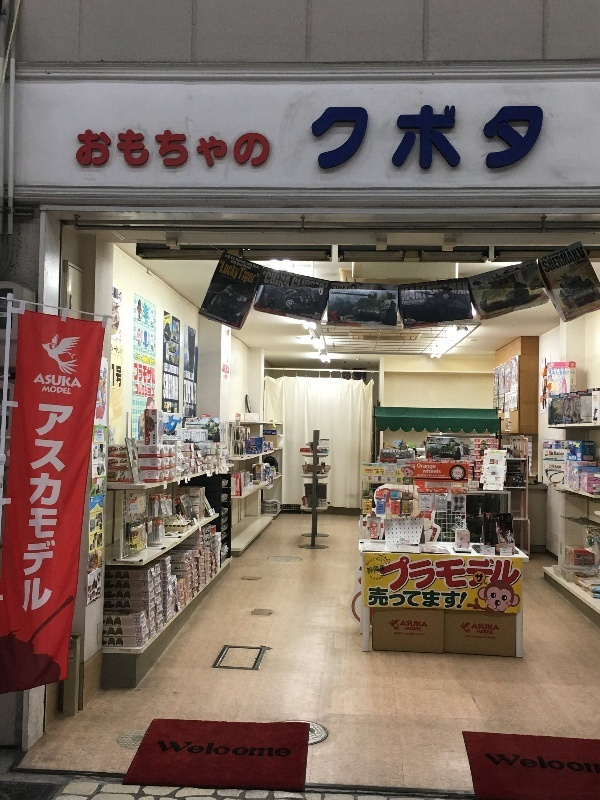text: (49, 401, 64, 615), (38, 401, 48, 615), (65, 401, 75, 615), (321, 103, 336, 173), (337, 103, 352, 173), (353, 103, 368, 173), (369, 103, 384, 173), (385, 103, 400, 173), (401, 103, 416, 173), (417, 103, 432, 173), (433, 103, 448, 173), (449, 103, 464, 173), (465, 103, 480, 173), (481, 103, 496, 173), (497, 103, 512, 173), (513, 103, 528, 173), (529, 103, 544, 173), (309, 103, 320, 173), (81, 128, 96, 173), (97, 128, 112, 173), (113, 128, 128, 173), (129, 128, 144, 173), (145, 128, 160, 173), (161, 128, 176, 173), (177, 128, 192, 173), (193, 128, 208, 173), (209, 128, 224, 173), (225, 128, 240, 173), (241, 128, 256, 173), (257, 128, 271, 173), (385, 554, 400, 593), (401, 554, 416, 593), (417, 554, 432, 593), (433, 554, 448, 593), (449, 554, 464, 593), (465, 554, 480, 593), (481, 554, 496, 593), (497, 554, 512, 593), (545, 244, 560, 275), (561, 244, 576, 275), (369, 584, 384, 612), (385, 584, 400, 612), (401, 584, 416, 612), (417, 584, 432, 612), (433, 584, 448, 612), (449, 584, 464, 612), (163, 372, 176, 403), (225, 259, 240, 281), (161, 739, 176, 761), (177, 739, 192, 761), (193, 739, 208, 761), (209, 739, 224, 761), (225, 739, 240, 761), (241, 739, 256, 761), (257, 739, 272, 761), (273, 739, 288, 761), (497, 752, 512, 774), (513, 752, 528, 774), (529, 752, 544, 774), (545, 752, 560, 774), (561, 752, 576, 774), (513, 554, 521, 593), (577, 244, 587, 275), (482, 752, 496, 774), (242, 266, 256, 287), (273, 270, 288, 289), (49, 371, 64, 389), (65, 371, 80, 389), (114, 286, 128, 305), (145, 362, 156, 385), (449, 281, 464, 297), (545, 246, 560, 262), (378, 554, 384, 593), (134, 362, 144, 385), (401, 286, 416, 301), (113, 364, 122, 389), (577, 752, 586, 774), (184, 380, 192, 404), (145, 383, 155, 400), (305, 274, 320, 285), (369, 564, 384, 575), (49, 385, 64, 396), (163, 362, 176, 374), (135, 383, 144, 400), (264, 270, 272, 289), (273, 267, 288, 277), (293, 277, 304, 290), (193, 431, 206, 442), (465, 584, 470, 612), (369, 556, 383, 566), (370, 571, 384, 581), (145, 352, 155, 366), (545, 103, 547, 173), (417, 286, 426, 301), (481, 622, 496, 631), (77, 128, 80, 173), (561, 246, 569, 262), (113, 343, 122, 357), (41, 371, 48, 389), (417, 463, 432, 471), (403, 619, 416, 628), (321, 283, 328, 299), (136, 352, 144, 366), (548, 367, 560, 376), (417, 619, 429, 628), (337, 284, 352, 291), (584, 762, 592, 775), (402, 298, 416, 305), (244, 263, 256, 271), (184, 370, 192, 382), (193, 380, 197, 404), (541, 244, 544, 275), (593, 762, 600, 775), (465, 634, 480, 640), (481, 634, 496, 640), (296, 274, 304, 285), (321, 274, 329, 285), (226, 254, 240, 260), (561, 367, 570, 376), (184, 432, 192, 442), (481, 629, 494, 635), (170, 364, 176, 377), (65, 385, 72, 396), (265, 267, 272, 277), (417, 298, 427, 305), (427, 285, 432, 299), (422, 468, 432, 475), (221, 259, 224, 281), (549, 450, 560, 456), (157, 739, 160, 761), (289, 739, 292, 761), (163, 435, 176, 440), (465, 281, 469, 297), (540, 246, 544, 262), (257, 266, 260, 287), (521, 262, 528, 271), (529, 262, 536, 271), (177, 372, 179, 403), (289, 267, 295, 277), (406, 626, 416, 632), (401, 632, 416, 636), (374, 469, 384, 475), (417, 474, 432, 478), (433, 468, 441, 475), (225, 364, 230, 375), (551, 463, 560, 469), (474, 622, 480, 631), (475, 573, 480, 583), (385, 449, 395, 454), (247, 262, 256, 267), (231, 260, 240, 265), (44, 385, 48, 396), (241, 258, 247, 265), (353, 284, 359, 291), (434, 474, 448, 477), (232, 256, 240, 261), (568, 456, 576, 461), (438, 474, 448, 478), (177, 364, 180, 377), (289, 270, 291, 289), (81, 371, 83, 389), (433, 439, 442, 443), (417, 632, 425, 636), (554, 451, 560, 456), (417, 626, 422, 632), (481, 573, 484, 583), (385, 571, 388, 581), (257, 263, 261, 270), (585, 442, 592, 446), (497, 622, 500, 631), (177, 435, 182, 440), (394, 632, 400, 636), (193, 370, 195, 382), (433, 463, 436, 471), (237, 258, 240, 265), (333, 284, 336, 291), (561, 451, 565, 456), (366, 556, 368, 566), (396, 471, 400, 476), (369, 468, 373, 473), (241, 261, 244, 267), (477, 629, 480, 635), (428, 439, 432, 443), (237, 297, 240, 302), (365, 468, 368, 473), (254, 263, 256, 270), (433, 285, 434, 299), (238, 261, 240, 267), (429, 474, 432, 478), (367, 564, 368, 575), (385, 564, 386, 575), (223, 364, 224, 375), (241, 297, 243, 302), (383, 449, 384, 454)
